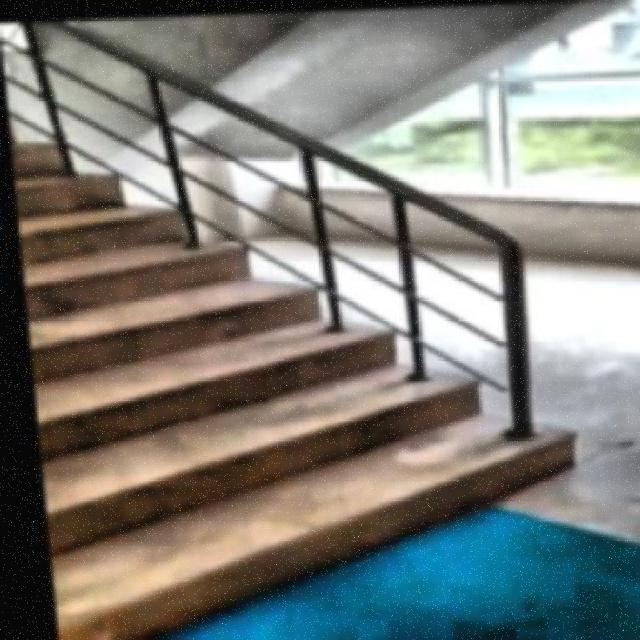stair: (5, 40, 632, 638)
